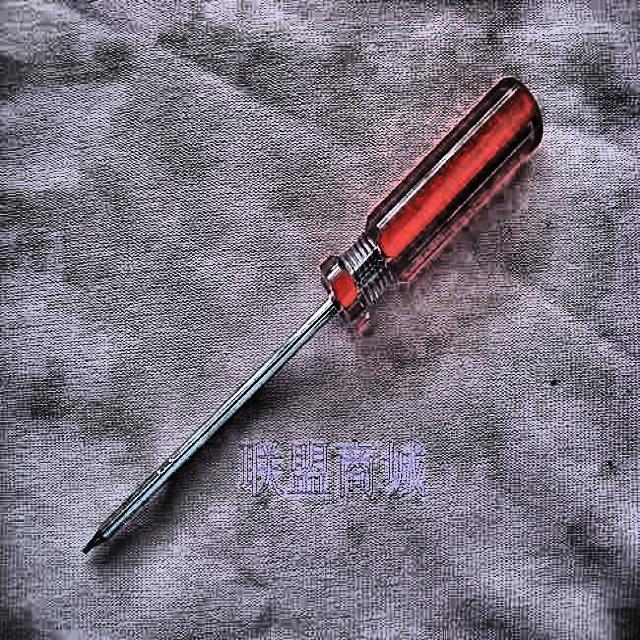screwdriver: (81, 76, 545, 555)
